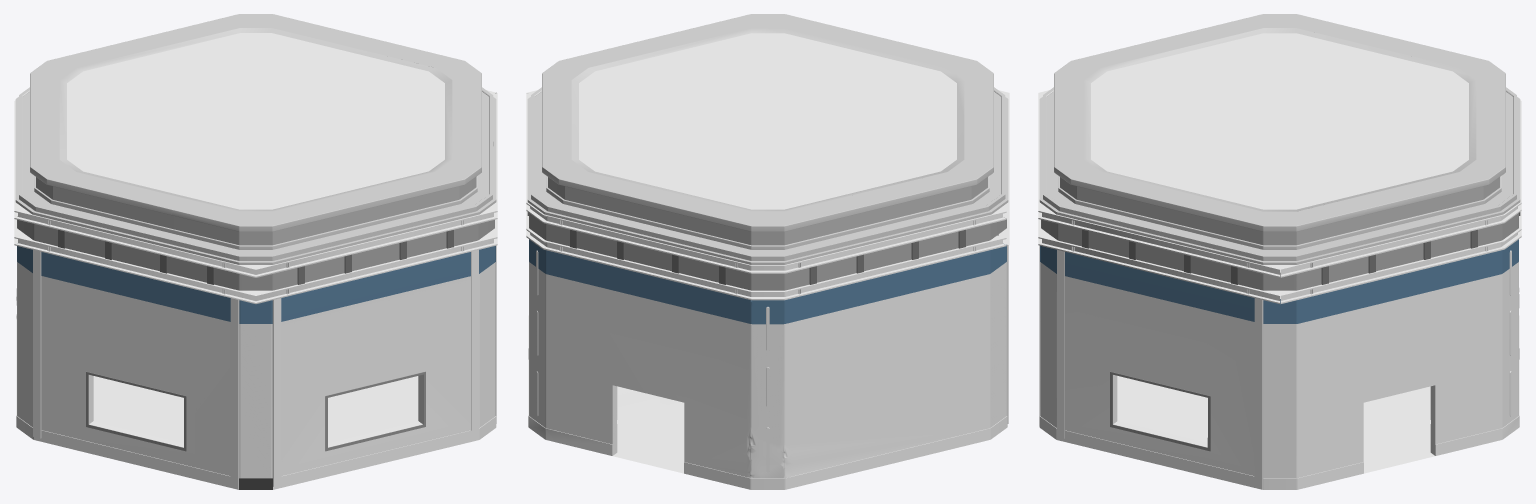
3 views of the same model, side by side, from view 1: azimuth 30°, elevation 25°; view 2: azimuth 150°, elevation 25°; view 3: azimuth 270°, elevation 25° (orthographic).
Visible parts, largest first — view 1: SM_H_Building_FutureTech_Test_01_ExterWall_07; view 2: SM_H_Building_FutureTech_Test_01_ExterWall_07; view 3: SM_H_Building_FutureTech_Test_01_ExterWall_07.
Part boxes in pixels (left/top/right/bottom): SM_H_Building_FutureTech_Test_01_ExterWall_07: left=14, top=14, right=497, bottom=489; SM_H_Building_FutureTech_Test_01_ExterWall_07: left=526, top=14, right=1009, bottom=489; SM_H_Building_FutureTech_Test_01_ExterWall_07: left=1038, top=14, right=1521, bottom=489.
Size of the model in its own units: 607 by 701 by 370.
